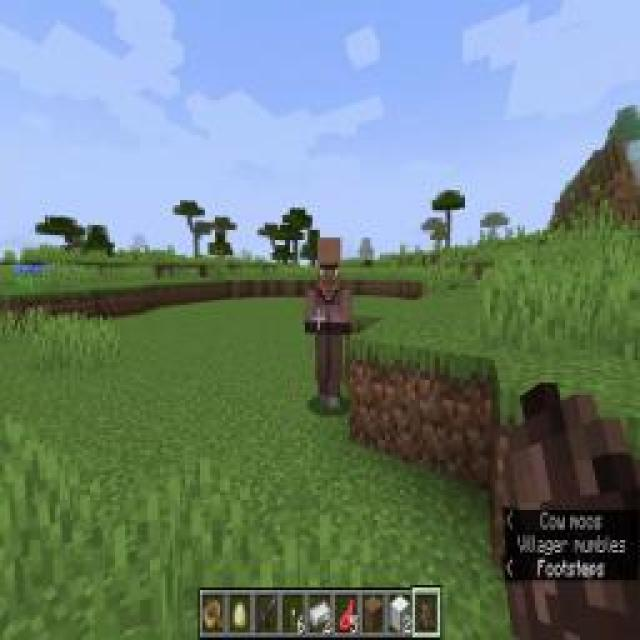Villager House: (301, 233, 354, 415)
